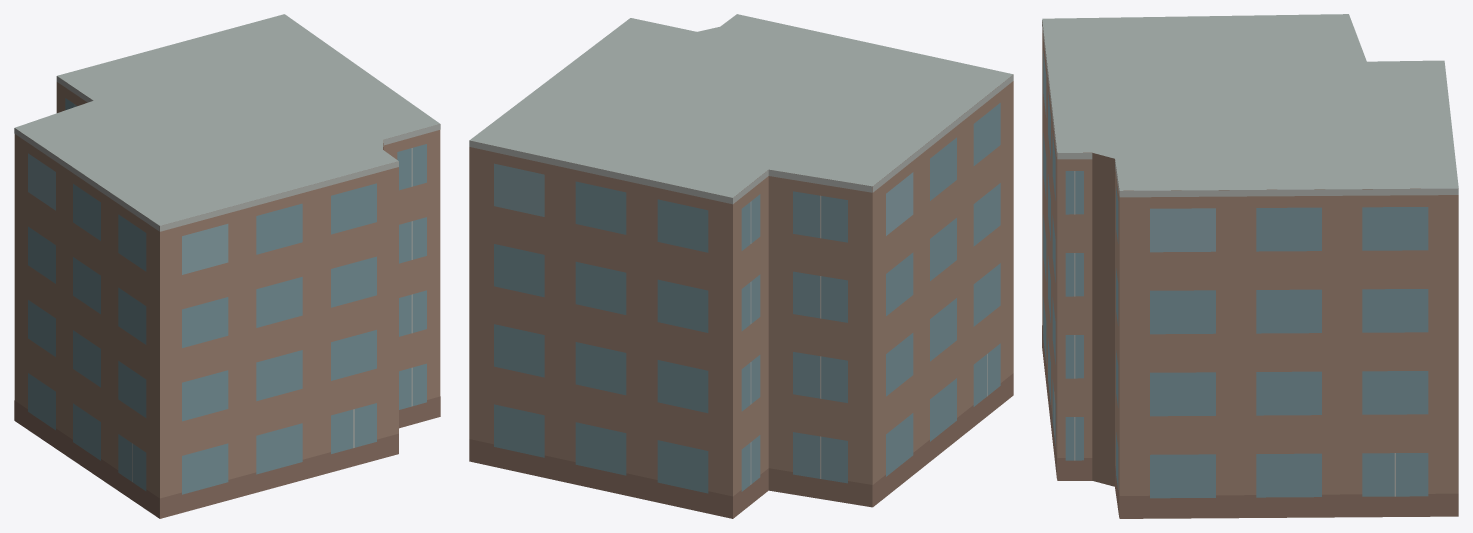
The model's file is survey-upis-32666291.glb.
3 views of the same model, side by side, from view 1: azimuth 30°, elevation 25°; view 2: azimuth 150°, elevation 25°; view 3: azimuth 270°, elevation 25° (orthographic). The views are drawn at different scales.
Visible parts, largest first — view 1: survey-upis-32666291.tmp; view 2: survey-upis-32666291.tmp; view 3: survey-upis-32666291.tmp.
Part boxes in pixels (left/top/right/bottom): survey-upis-32666291.tmp: left=14, top=14, right=440, bottom=518; survey-upis-32666291.tmp: left=469, top=14, right=1013, bottom=518; survey-upis-32666291.tmp: left=1042, top=14, right=1458, bottom=518.
Size of the model in its own units: 14.11 by 12.2 by 14.05.
